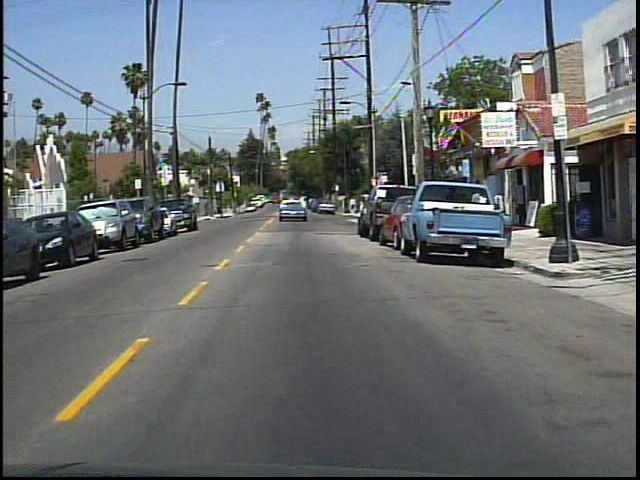person: (470, 184, 493, 233)
